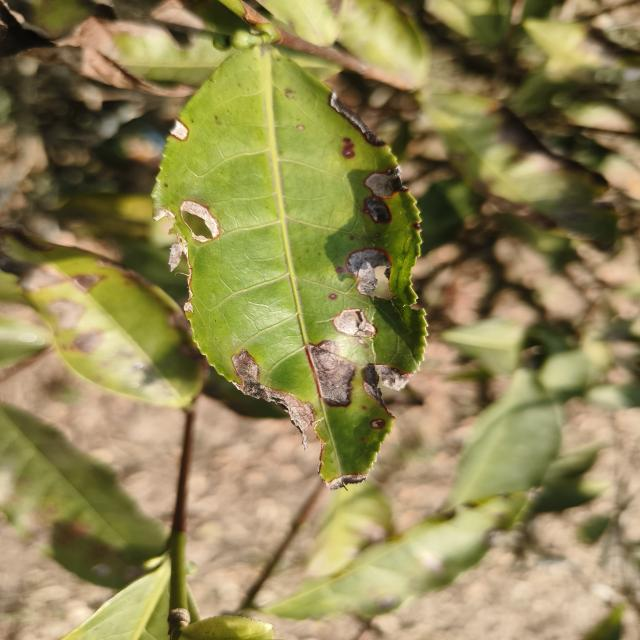Leaf: (153, 45, 425, 488), (0, 231, 202, 408), (262, 494, 524, 619), (0, 404, 167, 589), (427, 94, 615, 244), (448, 368, 561, 507), (61, 557, 170, 640), (338, 0, 429, 88)
